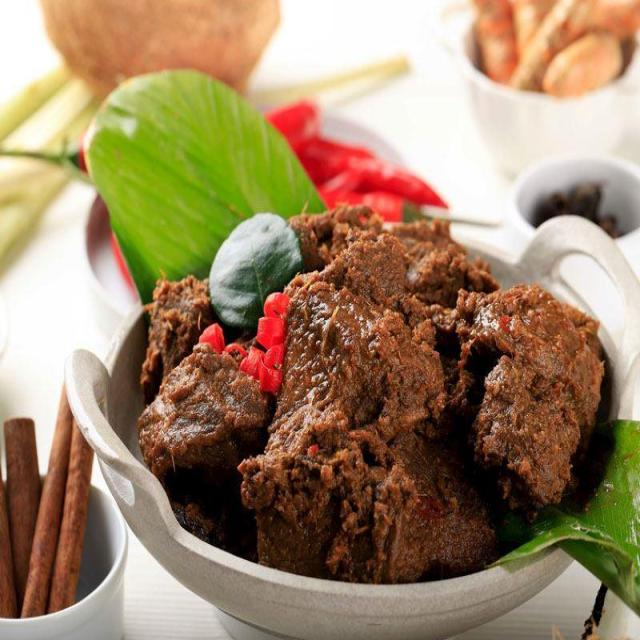Rendang: (143, 219, 616, 585)
